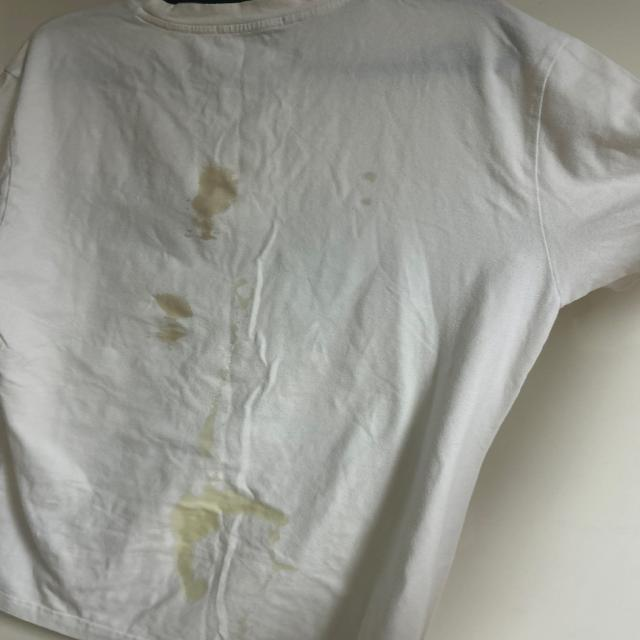stain: (171, 491, 260, 598), (191, 167, 243, 246), (144, 292, 192, 337), (220, 277, 266, 319), (247, 492, 292, 526), (197, 394, 220, 455), (260, 532, 294, 572), (354, 165, 378, 212)
